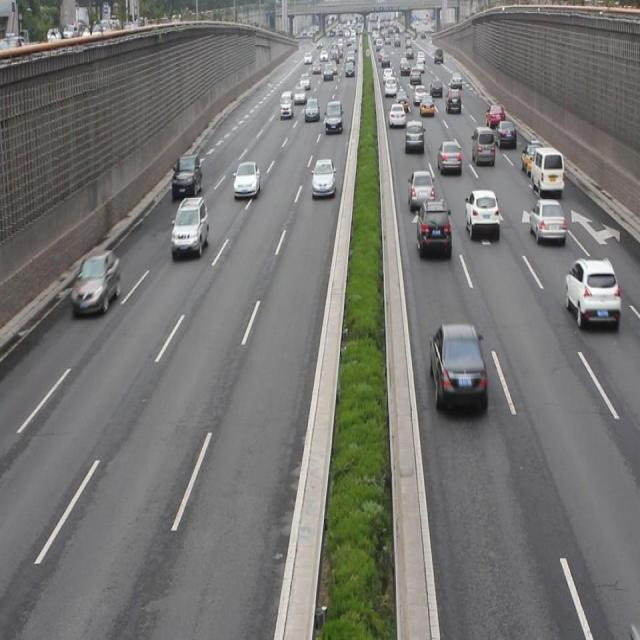car: (429, 321, 486, 411), (564, 257, 619, 328), (71, 247, 120, 316), (170, 195, 208, 254), (416, 198, 451, 257), (465, 189, 498, 240), (528, 197, 564, 243), (172, 153, 202, 198), (408, 169, 435, 213), (233, 160, 260, 198), (310, 157, 334, 196), (436, 138, 461, 175), (520, 139, 543, 175), (404, 118, 424, 152), (496, 118, 516, 150), (485, 101, 504, 130), (388, 101, 405, 128)
truck: (530, 146, 563, 192), (470, 124, 494, 166), (324, 99, 343, 134)
